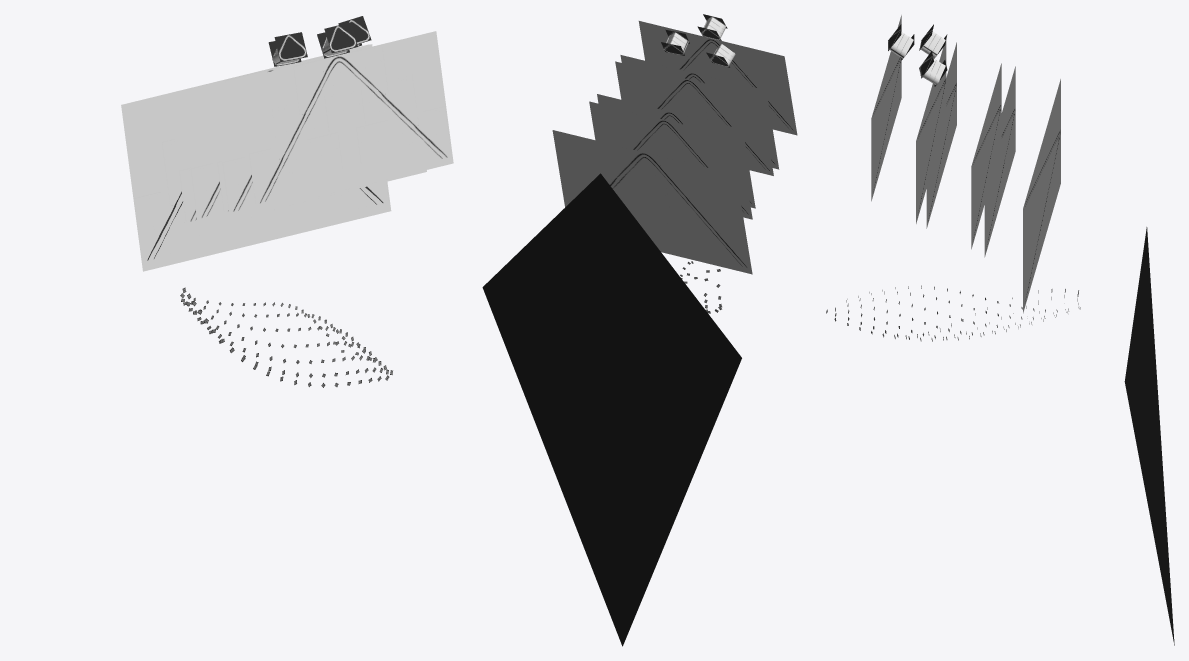
Rendered from rdc_spirale2.dae.
3 renders of one model, left to right at view 1: azimuth 30°, elevation 25°; view 2: azimuth 150°, elevation 25°; view 3: azimuth 270°, elevation 25°, orthographic. The views are drawn at different scales.
Visible parts, largest first — view 1: topgrande (×6), spirale, megapattern_top (×2); view 2: nero, topgrande (×6); view 3: topgrande (×6), nero, spirale.
Boxes of the visible parts, box(x1,y1,x2,y2) form: topgrande (×6): box(121, 31, 453, 271); spirale: box(180, 287, 392, 387); megapattern_top (×2): box(274, 22, 357, 61); nero: box(482, 173, 741, 646); topgrande (×6): box(552, 21, 797, 274); topgrande (×6): box(871, 15, 1060, 313); nero: box(1124, 227, 1174, 645); spirale: box(826, 285, 1080, 341).
Bounding box in the file's own units: 525 × 1004 × 501.
Materials: 6 (5 with a texture image).
